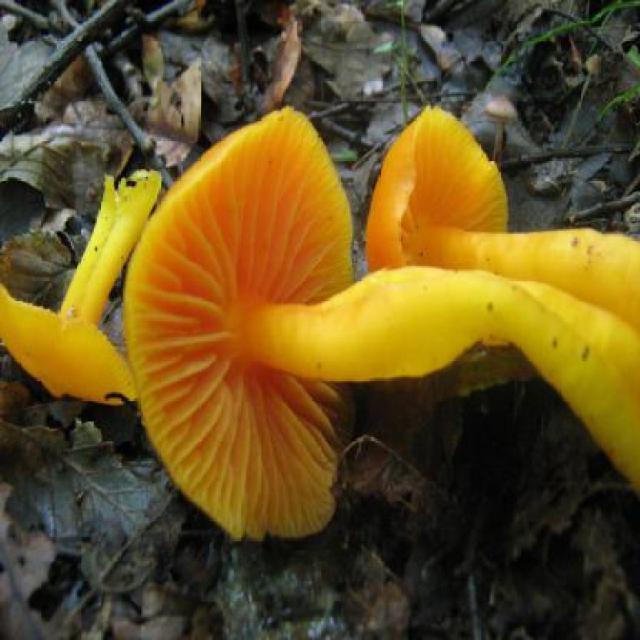Mushroom: (121, 102, 639, 536), (367, 95, 639, 332), (0, 162, 146, 410)
